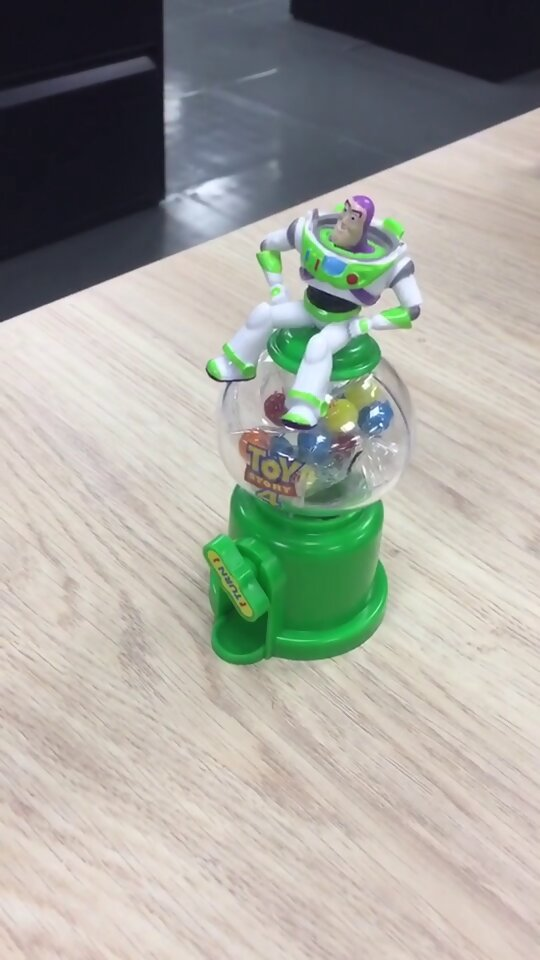buzz: (199, 178, 431, 675)
